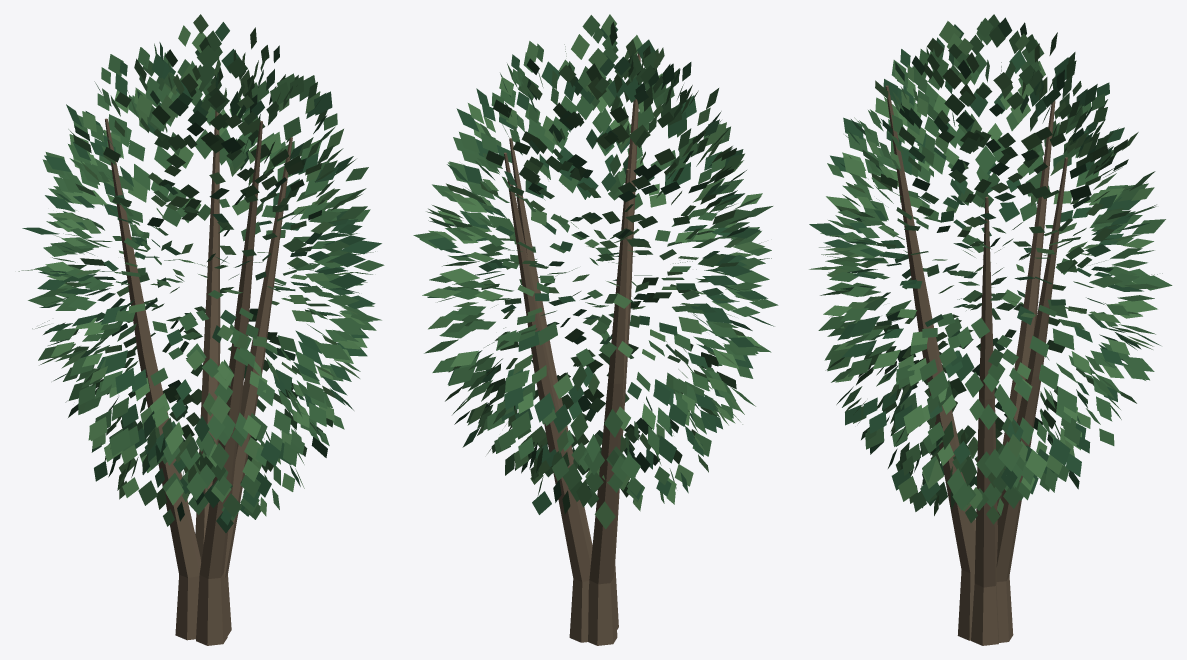
The model's file is original-tree-evergreen.glb.
3 renders of one model, left to right at view 1: azimuth 30°, elevation 25°; view 2: azimuth 150°, elevation 25°; view 3: azimuth 270°, elevation 25°, orthographic.
Visible parts, largest first — view 1: original-tree-evergreen; view 2: original-tree-evergreen; view 3: original-tree-evergreen.
Boxes of the visible parts, bbox=[...] form: original-tree-evergreen: bbox=[18, 14, 384, 645]; original-tree-evergreen: bbox=[413, 14, 778, 645]; original-tree-evergreen: bbox=[809, 14, 1172, 645].
Bounding box in the file's own units: 1.2 × 2.2 × 1.2.
